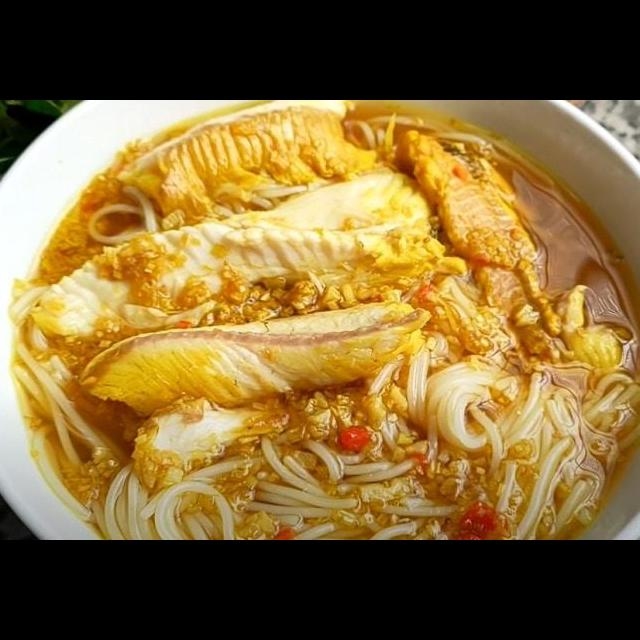bun: (79, 435, 612, 540), (397, 354, 640, 540), (2, 281, 136, 527)
bun ca: (7, 119, 631, 540)
ca: (41, 170, 445, 327), (73, 294, 437, 418), (126, 101, 375, 218), (398, 127, 534, 264)
